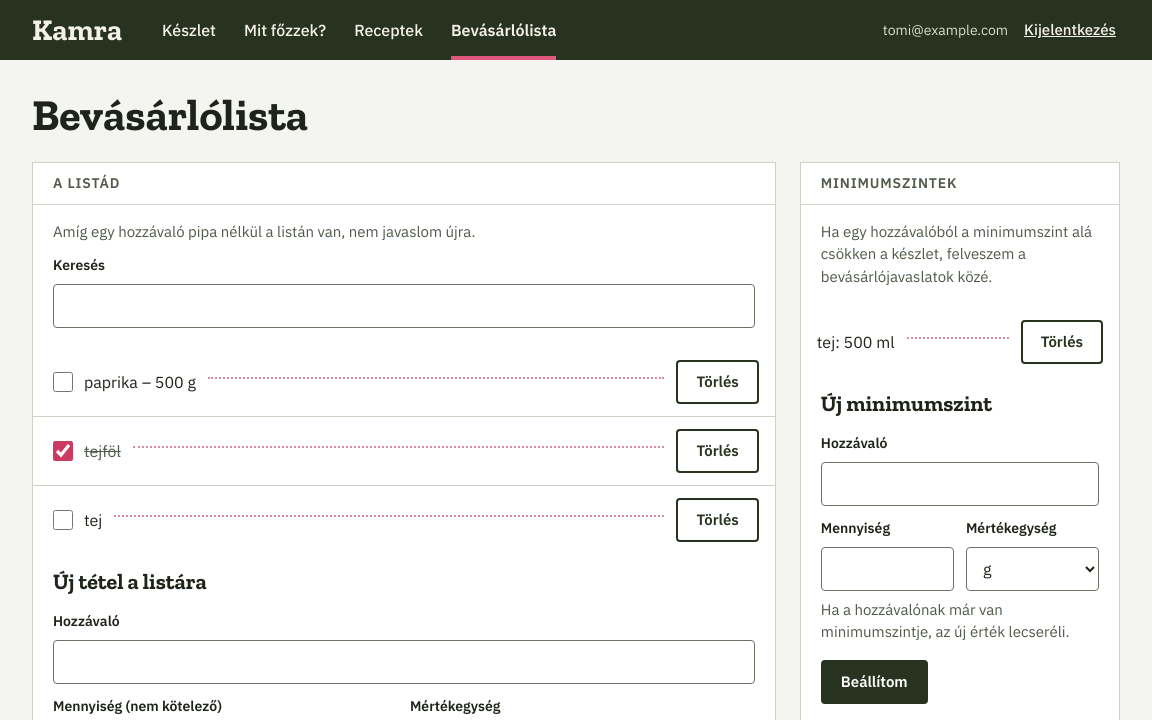
it: the search on the list › says so when nothing matches
Expected: the checkbox labelled "paprika – 500 g" is shown, [53,372,73,392]
Type "xyz" into the search field labelled "Keresés" at (404, 306), box [53,284,755,328]
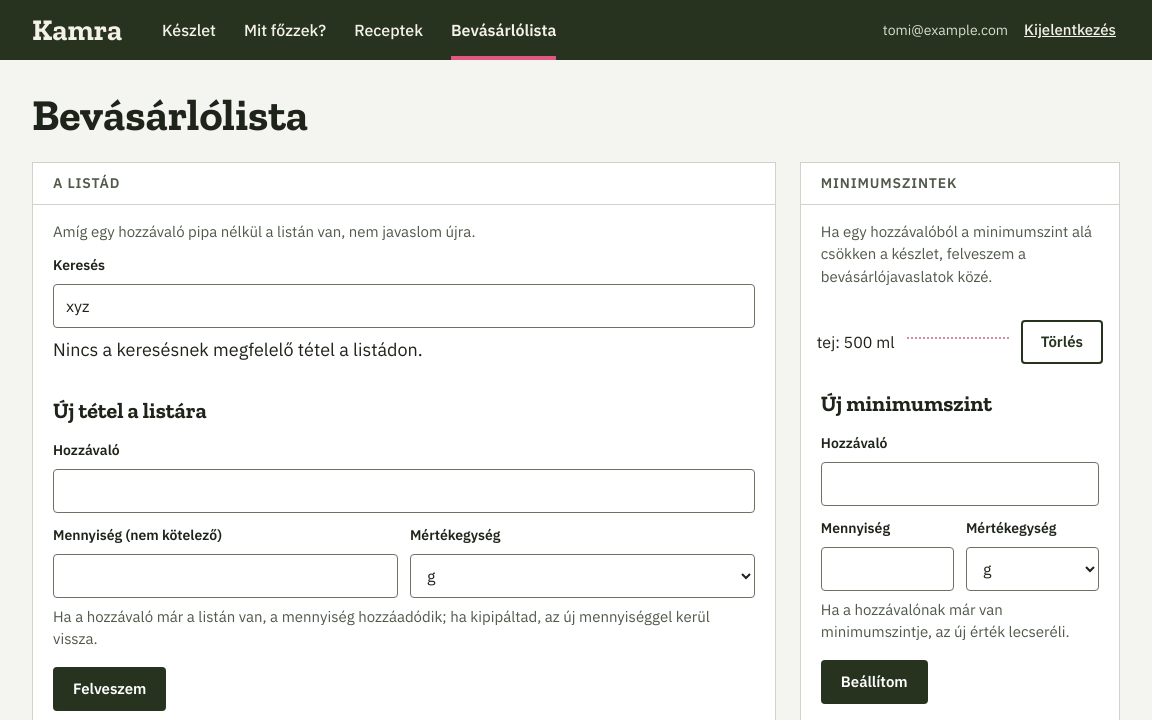
Expected: the text "Nincs a keresésnek megfelelő tétel a listádon." is shown, [53,338,423,362]
